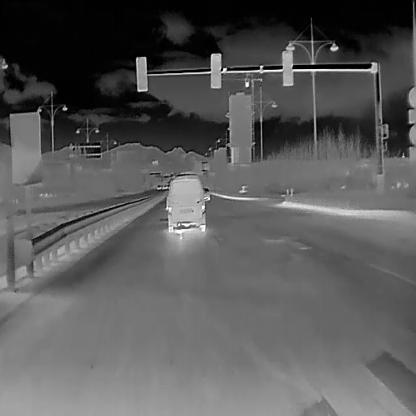car: (166, 172, 203, 232), (202, 186, 210, 200)
